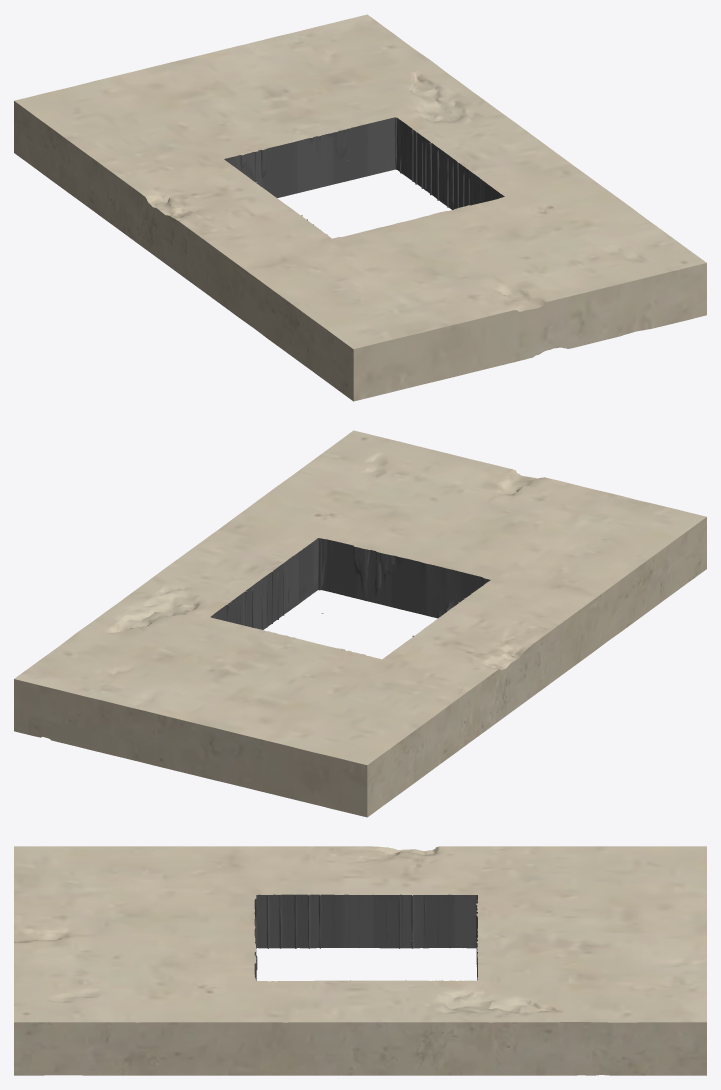
Rendered from Boolean_8F9BBB0A1_23bcf2.glb.
The picture shows the model from 3 angles, top to bottom: view 1: azimuth 30°, elevation 25°; view 2: azimuth 150°, elevation 25°; view 3: azimuth 270°, elevation 25°; orthographic projection. The views are drawn at different scales.
Parts seen in each view (by area): view 1: Boolean_8F9BBB0A1; view 2: Boolean_8F9BBB0A1; view 3: Boolean_8F9BBB0A1.
Boxes of the visible parts, bbox=[...] form: Boolean_8F9BBB0A1: bbox=[14, 14, 706, 401]; Boolean_8F9BBB0A1: bbox=[14, 430, 706, 817]; Boolean_8F9BBB0A1: bbox=[14, 846, 706, 1075].
Bounding box in the file's own units: 3.55 × 0.5096 × 5.9.
Materials: 2 (2 with a texture image).
